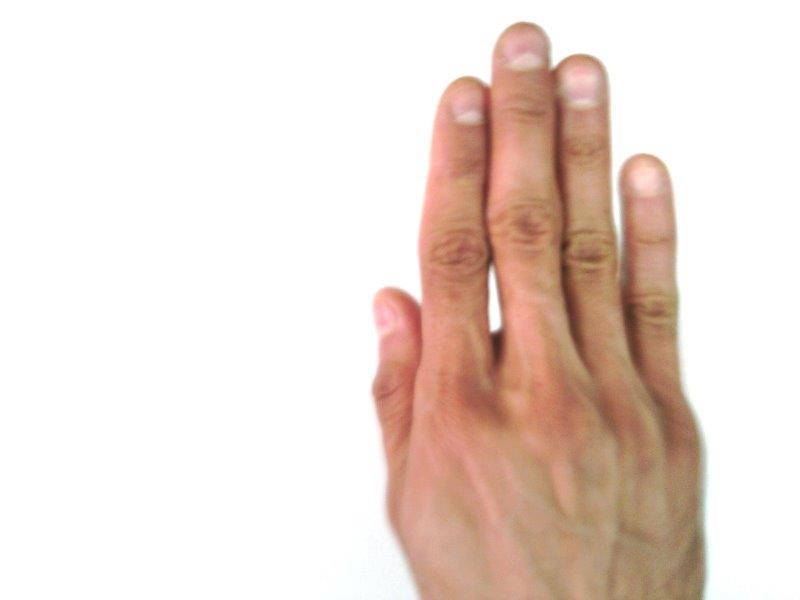hand: (373, 22, 708, 596)
